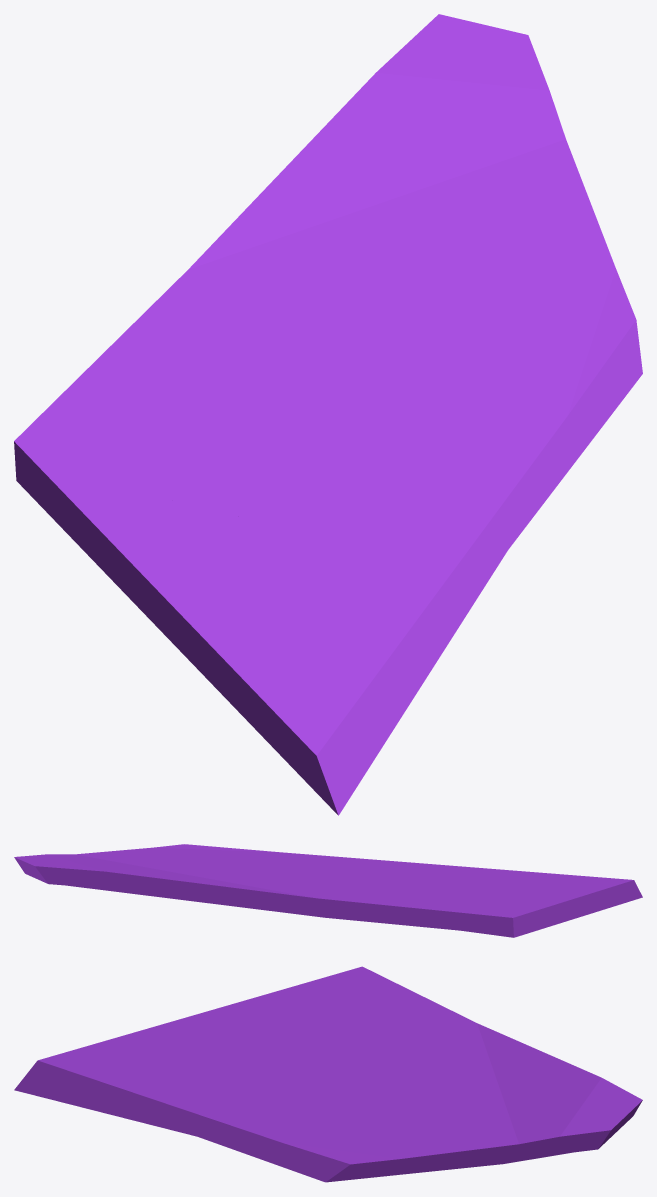
File: Glass_100_3_14_chunks.fbx
The picture shows the model from 3 angles, top to bottom: view 1: azimuth 30°, elevation 25°; view 2: azimuth 150°, elevation 25°; view 3: azimuth 270°, elevation 25°; orthographic projection. The views are drawn at different scales.
Parts seen in each view (by area): view 1: Glass_100_3_14_11, Glass_100_3_14_1, Glass_100_3_14_4, Glass_100_3_14_8, Glass_100_3_14_3, Glass_100_3_14_12, Glass_100_3_14_7, Glass_100_3_14_0, Glass_100_3_14_9, Glass_100_3_14_6, Glass_100_3_14_15, Glass_100_3_14_14 (+1 smaller); view 2: Glass_100_3_14_4, Glass_100_3_14_11, Glass_100_3_14_1, Glass_100_3_14_8, Glass_100_3_14_0, Glass_100_3_14_3, Glass_100_3_14_7, Glass_100_3_14_9, Glass_100_3_14_12, Glass_100_3_14_15, Glass_100_3_14_6, Glass_100_3_14_14 (+1 smaller); view 3: Glass_100_3_14_1, Glass_100_3_14_11, Glass_100_3_14_4, Glass_100_3_14_8, Glass_100_3_14_3, Glass_100_3_14_12, Glass_100_3_14_7, Glass_100_3_14_9, Glass_100_3_14_0, Glass_100_3_14_6, Glass_100_3_14_15, Glass_100_3_14_14 (+1 smaller).
Boxes of the visible parts, bbox=[...] form: Glass_100_3_14_11: bbox=[61, 490, 384, 815]; Glass_100_3_14_1: bbox=[371, 14, 625, 291]; Glass_100_3_14_4: bbox=[95, 226, 430, 412]; Glass_100_3_14_8: bbox=[14, 362, 289, 526]; Glass_100_3_14_3: bbox=[277, 306, 428, 650]; Glass_100_3_14_12: bbox=[349, 472, 528, 798]; Glass_100_3_14_7: bbox=[425, 268, 638, 371]; Glass_100_3_14_0: bbox=[230, 78, 400, 246]; Glass_100_3_14_9: bbox=[229, 437, 399, 693]; Glass_100_3_14_6: bbox=[524, 335, 642, 509]; Glass_100_3_14_15: bbox=[416, 352, 496, 475]; Glass_100_3_14_14: bbox=[478, 391, 538, 523]; Glass_100_3_14_4: bbox=[219, 869, 421, 923]; Glass_100_3_14_11: bbox=[479, 873, 642, 931]; Glass_100_3_14_1: bbox=[14, 846, 222, 887]; Glass_100_3_14_8: bbox=[391, 885, 531, 937]; Glass_100_3_14_0: bbox=[85, 872, 290, 913]; Glass_100_3_14_3: bbox=[254, 869, 518, 886]; Glass_100_3_14_7: bbox=[168, 844, 287, 869]; Glass_100_3_14_9: bbox=[405, 871, 546, 891]; Glass_100_3_14_12: bbox=[358, 858, 508, 870]; Glass_100_3_14_15: bbox=[282, 861, 383, 869]; Glass_100_3_14_6: bbox=[203, 845, 326, 857]; Glass_100_3_14_14: bbox=[291, 856, 358, 862]; Glass_100_3_14_1: bbox=[377, 1076, 642, 1174]; Glass_100_3_14_11: bbox=[14, 981, 310, 1092]; Glass_100_3_14_4: bbox=[338, 993, 504, 1100]; Glass_100_3_14_8: bbox=[268, 966, 414, 1054]; Glass_100_3_14_3: bbox=[115, 1050, 401, 1099]; Glass_100_3_14_12: bbox=[26, 1089, 258, 1143]; Glass_100_3_14_7: bbox=[326, 1098, 432, 1179]; Glass_100_3_14_9: bbox=[89, 1034, 314, 1090]; Glass_100_3_14_0: bbox=[458, 1035, 597, 1090]; Glass_100_3_14_6: bbox=[226, 1128, 347, 1182]; Glass_100_3_14_15: bbox=[250, 1094, 362, 1120]; Glass_100_3_14_14: bbox=[216, 1114, 315, 1146].
Size of the model in its own units: 836 by 314 by 1029.
